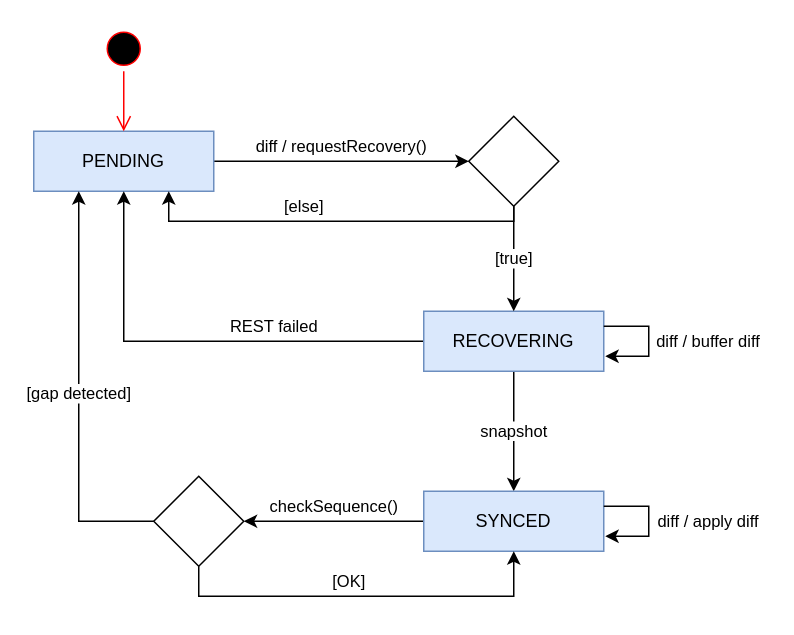
The diagram is 794 pixels wide and 635 high, and some of its shapes have lost their labels. Here are the shapes that lost their labels. From the top down, the box of each, then its label:
(467, 115, 559, 206): queued?
(152, 475, 244, 566): gap
